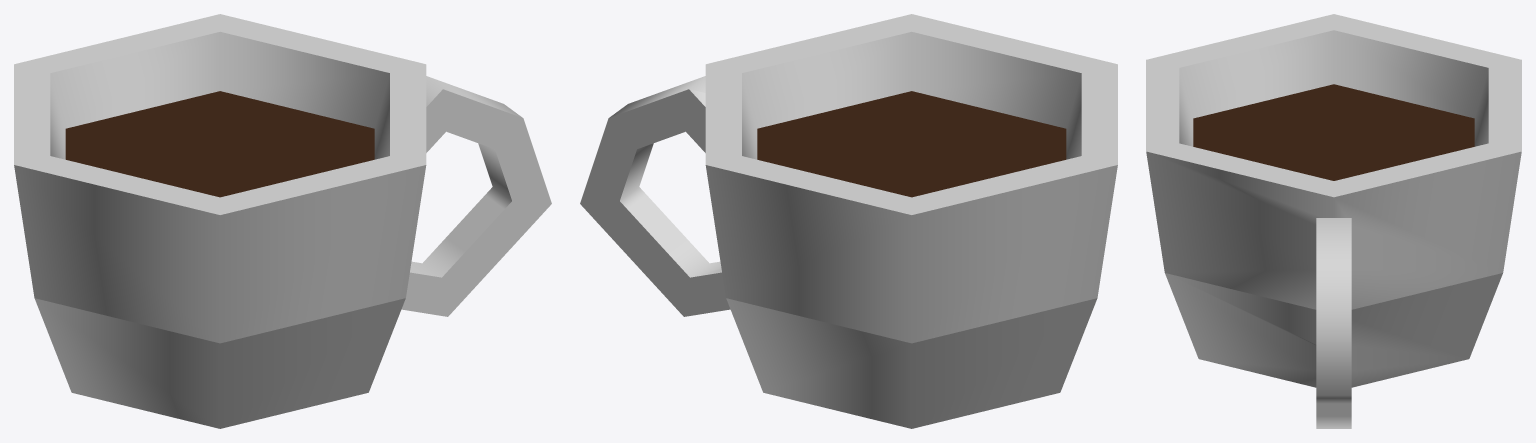
Rendered from Cup Tea-M2sVC8jbmi.glb.
3 views of the same model, side by side, from view 1: azimuth 30°, elevation 25°; view 2: azimuth 150°, elevation 25°; view 3: azimuth 270°, elevation 25° (orthographic). The views are drawn at different scales.
Parts seen in each view (by area): view 1: Cup Tea-M2sVC8jbmi; view 2: Cup Tea-M2sVC8jbmi; view 3: Cup Tea-M2sVC8jbmi.
Boxes of the visible parts, x1,y1,x2,y2 form: Cup Tea-M2sVC8jbmi: [14, 14, 551, 428]; Cup Tea-M2sVC8jbmi: [580, 14, 1117, 428]; Cup Tea-M2sVC8jbmi: [1146, 14, 1521, 428].
Bounding box in the file's own units: 0.1408 × 0.0633 × 0.0952.
